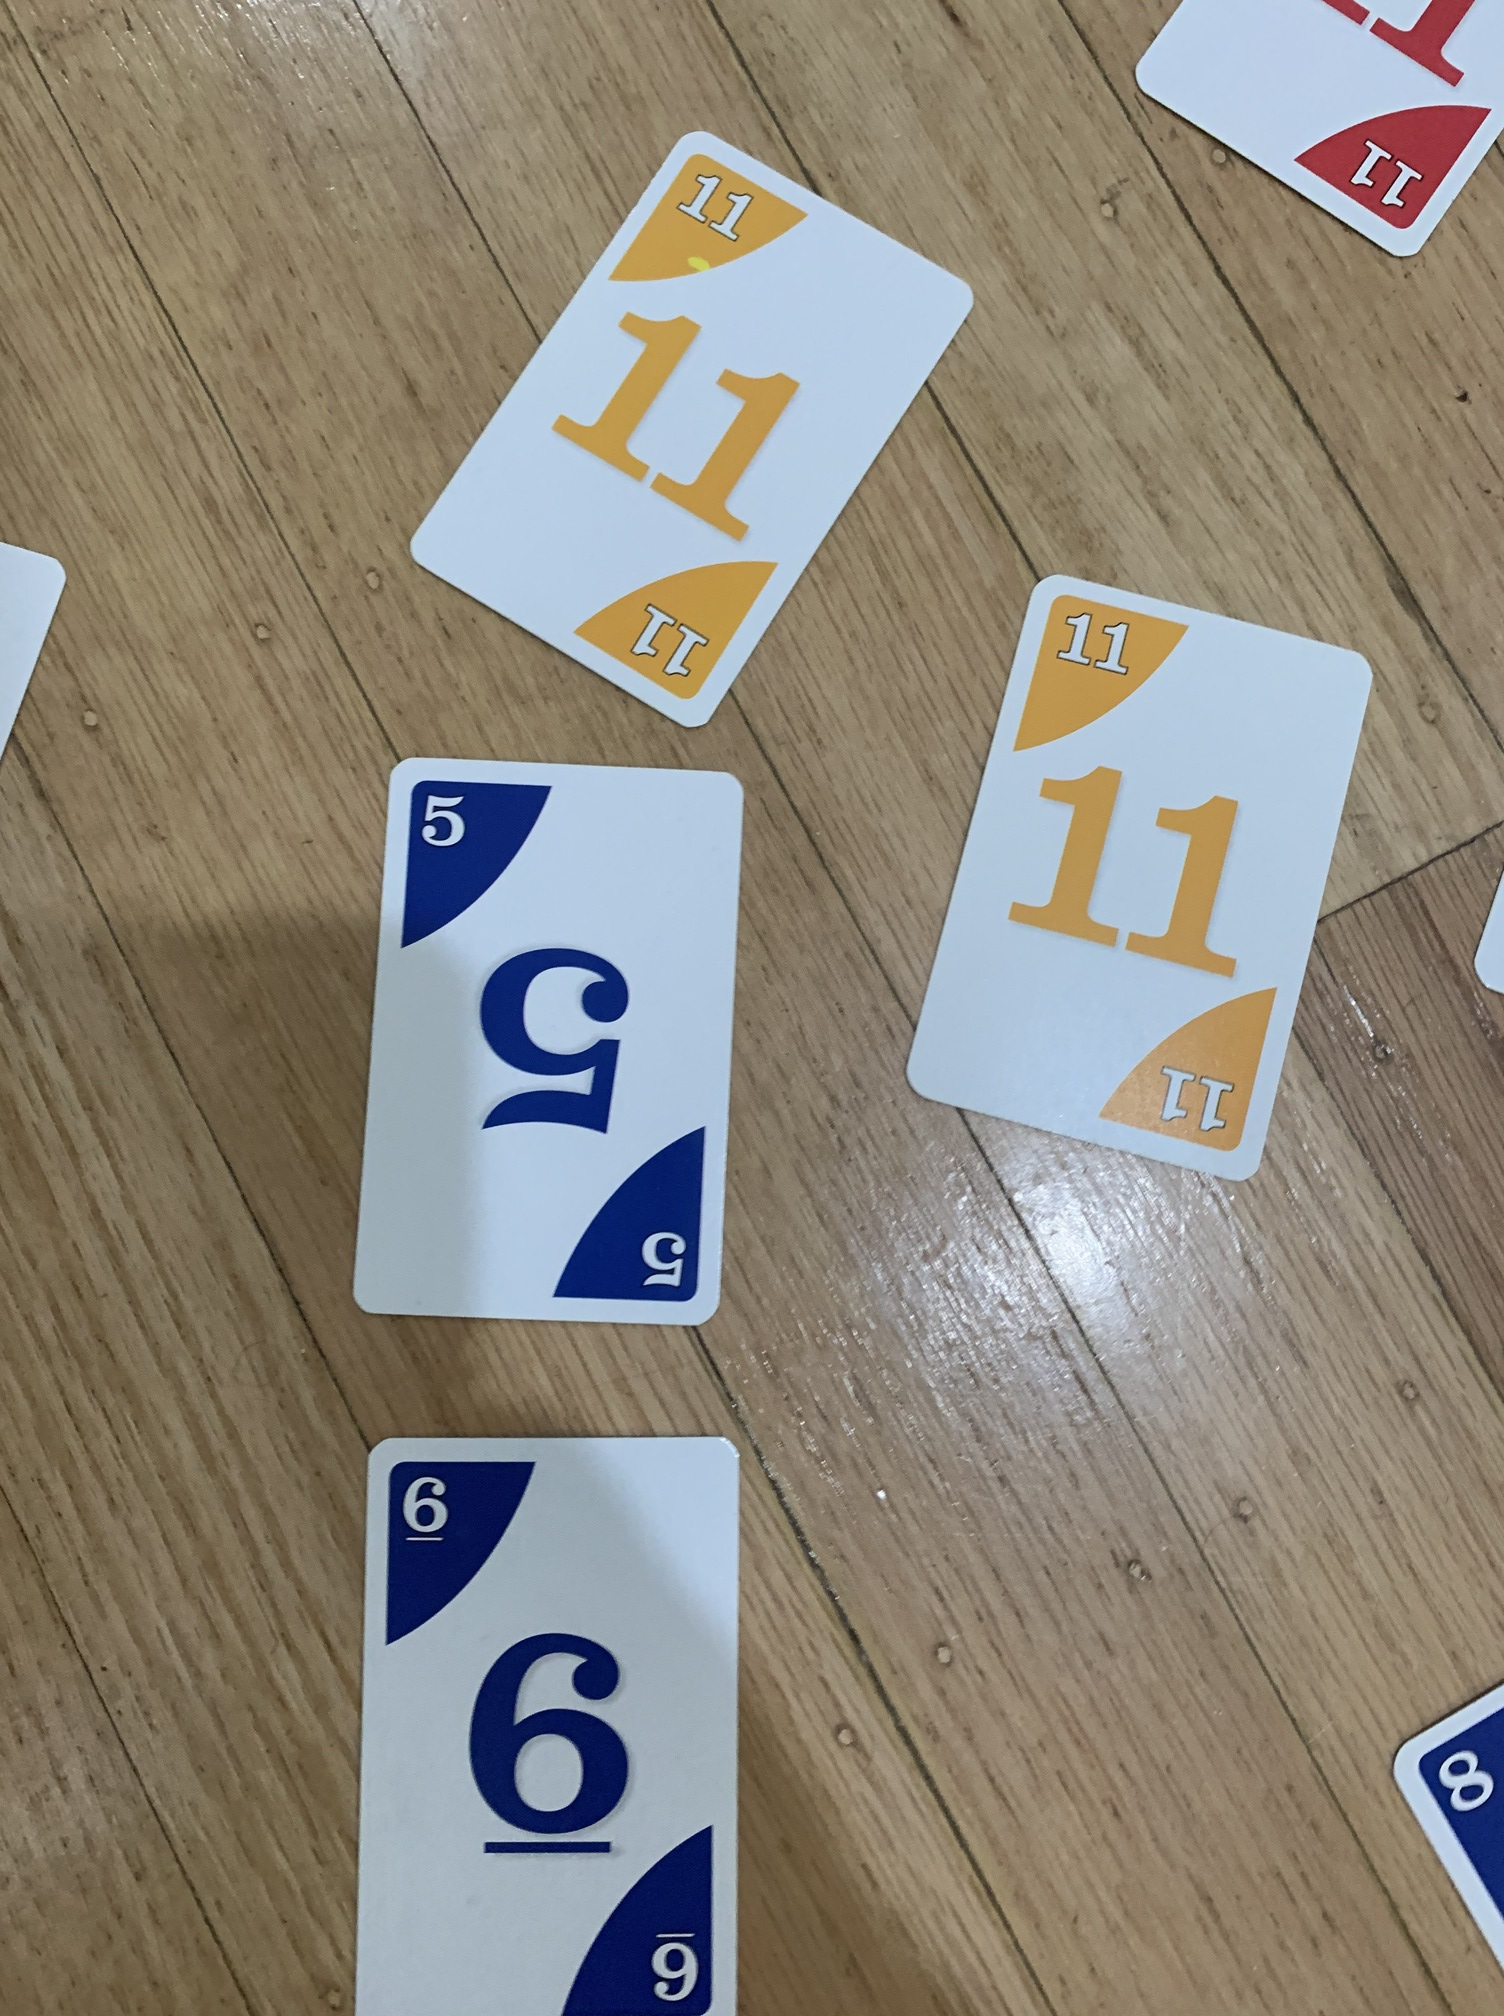eleven: (401, 120, 984, 744), (875, 572, 1404, 1196)
five: (310, 747, 785, 1341)
six: (327, 1420, 761, 2016)
